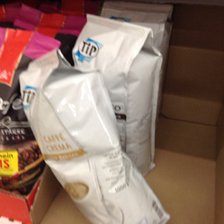coffee: (18, 47, 171, 224), (71, 12, 161, 172)
